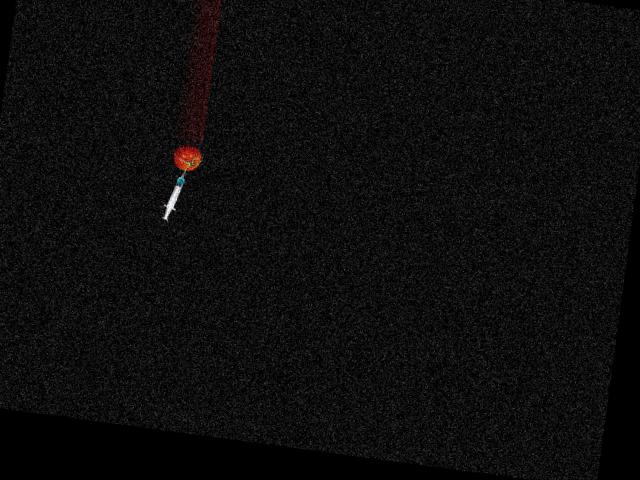tomato: (171, 143, 203, 172)
